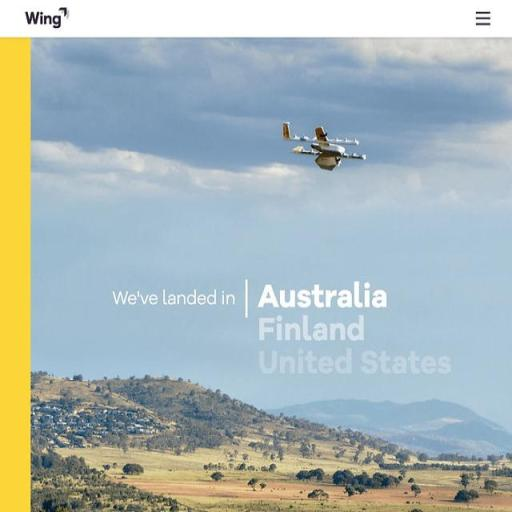uav: (274, 118, 380, 174)
